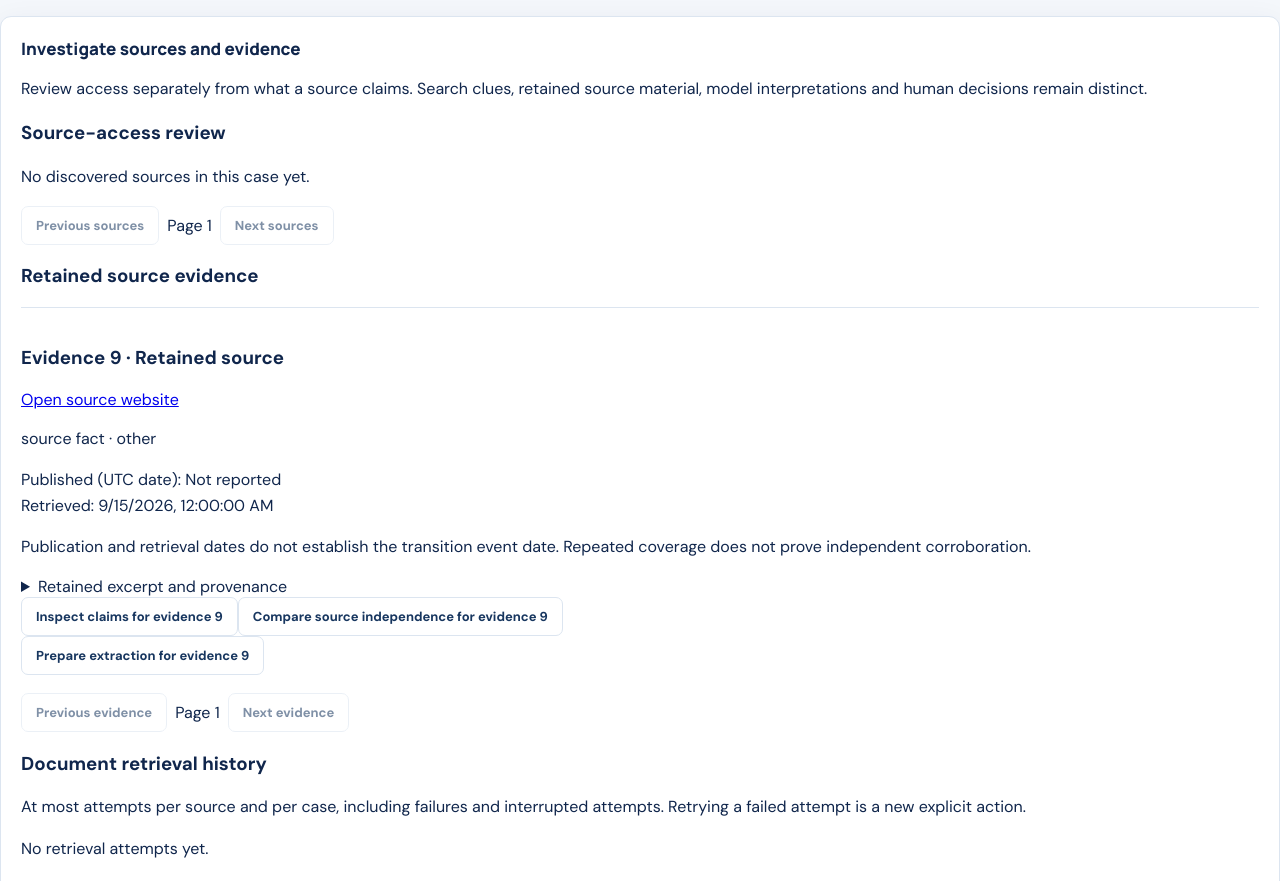
Test: loads source comparisons on request, explains uncertainty and paginates beyond visible evidence
The width and height of the screenshot is (1280, 881).
Check: the heading "Evidence 9 · Retained source" is shown, box [21,345,284,370]
Click the button "Compare source independence for evidence 9" at (400, 616), box [238,597,563,636]
(page scrolled)
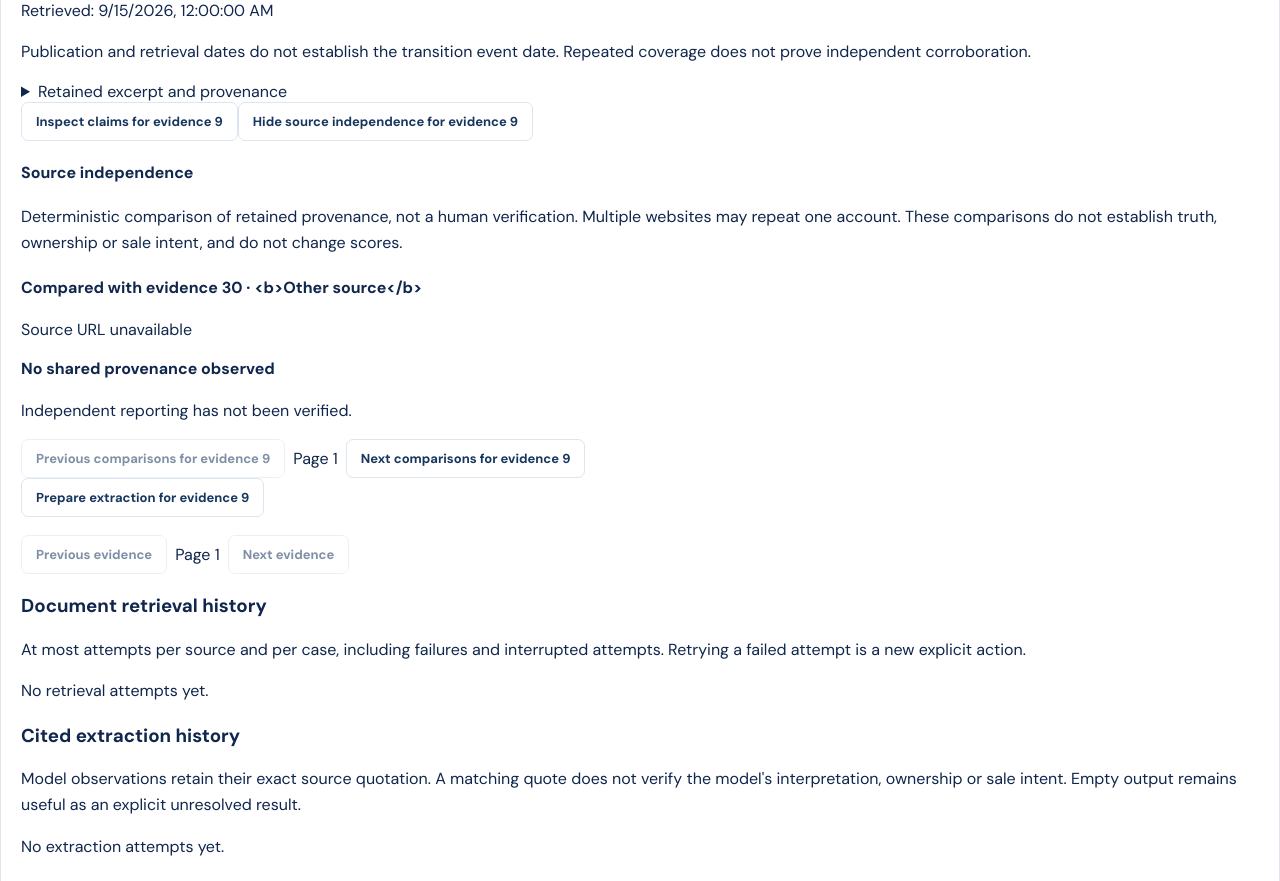
Check: the text "No shared provenance observed" is shown, box [21,358,275,379]
Check: the text "Independent reporting has not been verified." is shown, box [21,400,352,421]
Check: the heading "Compared with evidence 30 · <b>Other source</b>" is shown, box [21,277,422,298]
Click the button "Next comparisons for evidence 9" at (466, 459), box [346,439,585,478]
(page scrolled)
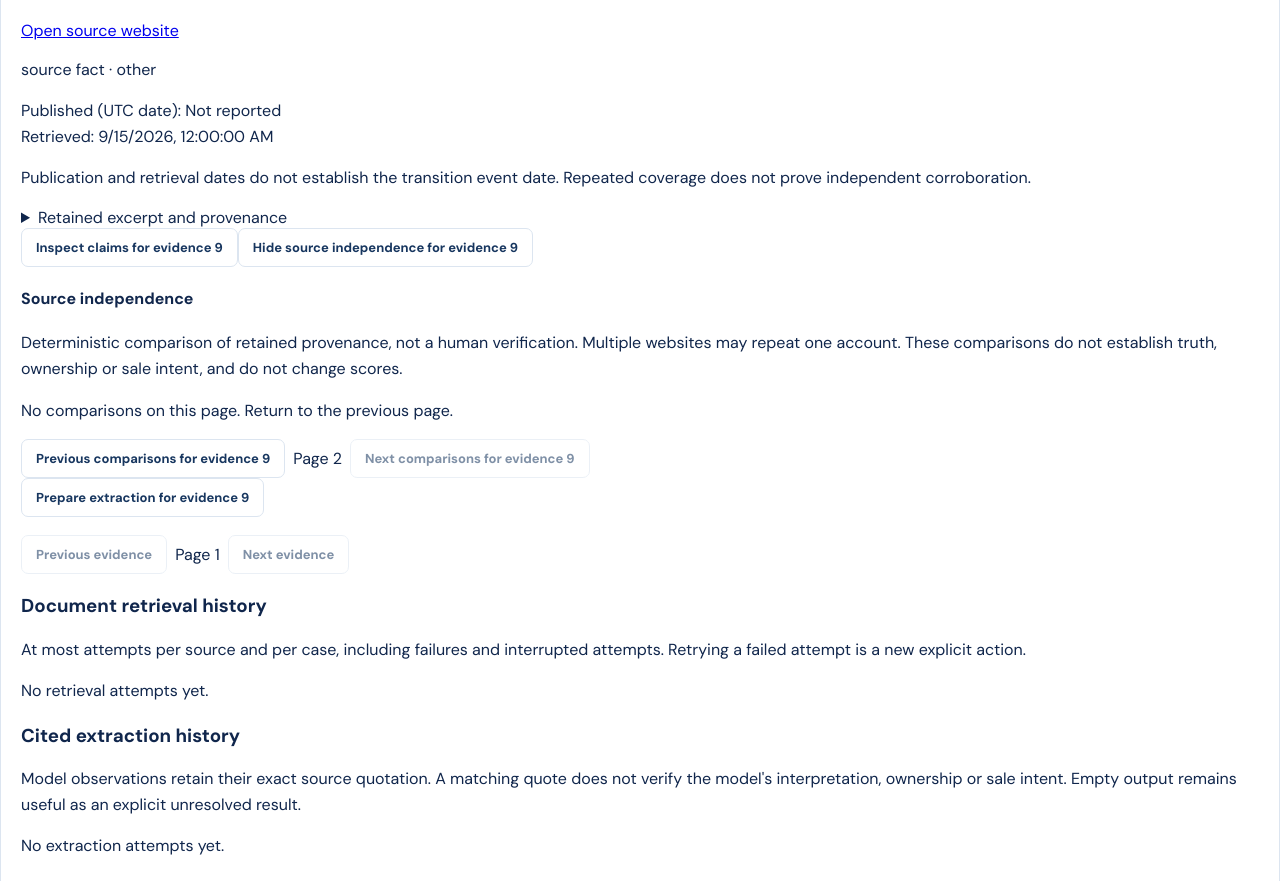
Check: the text "No comparisons on this page. Return to the previous page." is shown, box [21,400,453,421]
